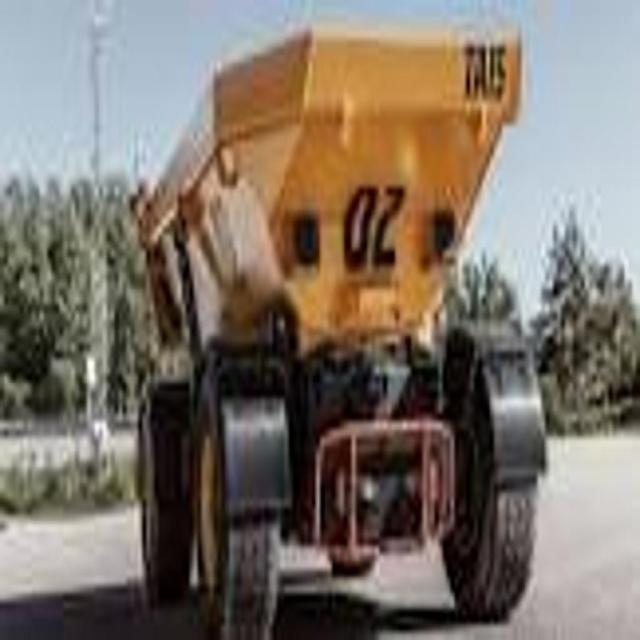dump_truck: (133, 34, 551, 640)
